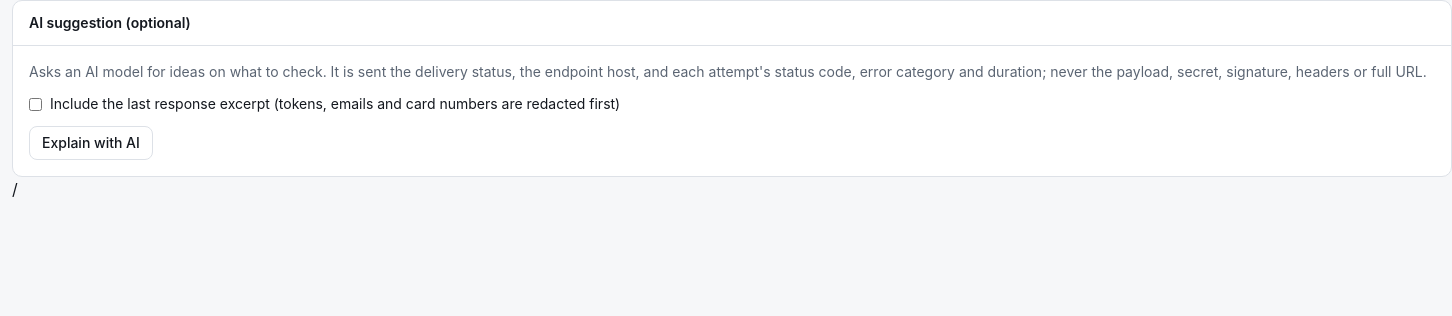
Test: AI controls › explain card labels the answer as AI-generated and sends the excerpt choice
Click the checkbox labelled "Include the last response excerpt" at (36,104), box [29,98,42,110]
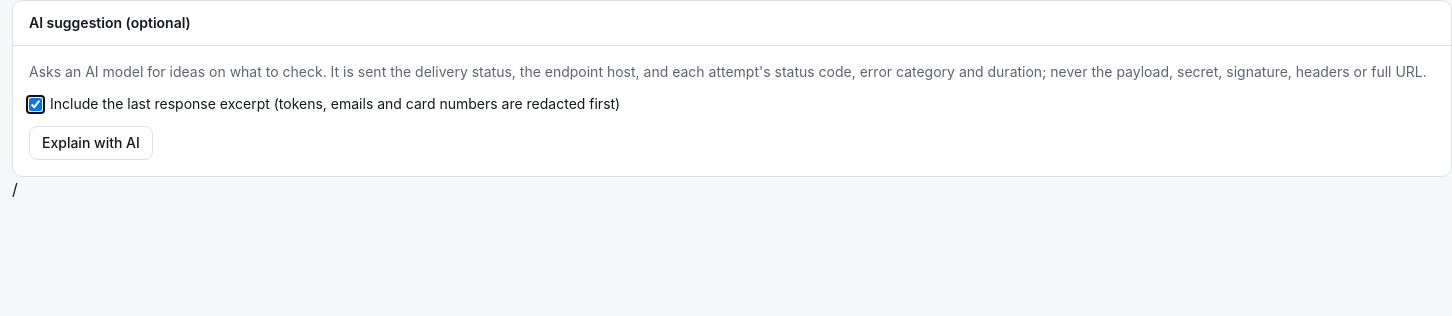
Click the button "Explain with AI" at (91,143), box [29,126,153,160]
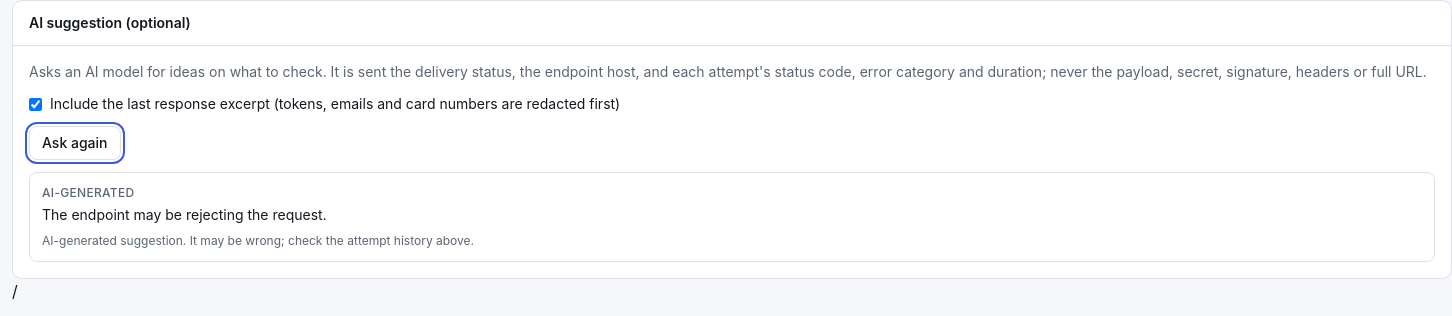
Expected: the element with test id "ai-explanation" shows "AI-generated", [42,185,134,200]
Expected: the element with test id "ai-explanation" shows "may be rejecting", [42,206,327,223]
Expected: the element with test id "ai-explanation" shows "may be wrong", [42,233,474,248]
